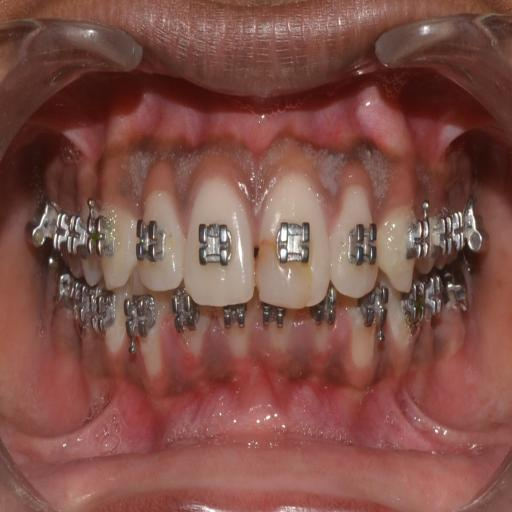correct_brace: (268, 211, 314, 271), (196, 211, 237, 273), (402, 202, 433, 268), (344, 215, 376, 278), (134, 221, 170, 268), (91, 206, 118, 262)
incorrect_brace: (331, 170, 378, 302), (134, 179, 186, 298)
